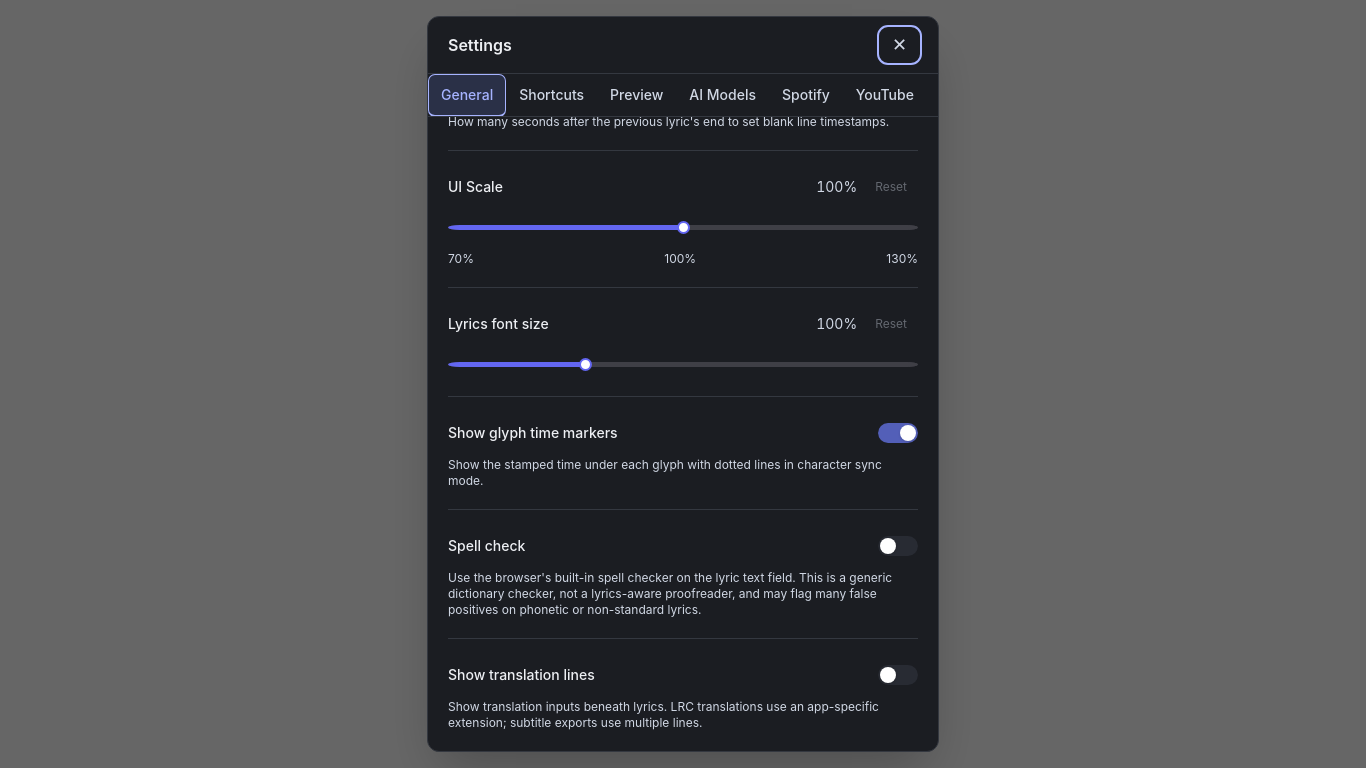
Scenario: keeps settings open when cancelling the nested translation warning
The image size is (1366, 768).
(page scrolled)
Click the switch named "Show translation lines": point(898, 675) [878,659,918,691]
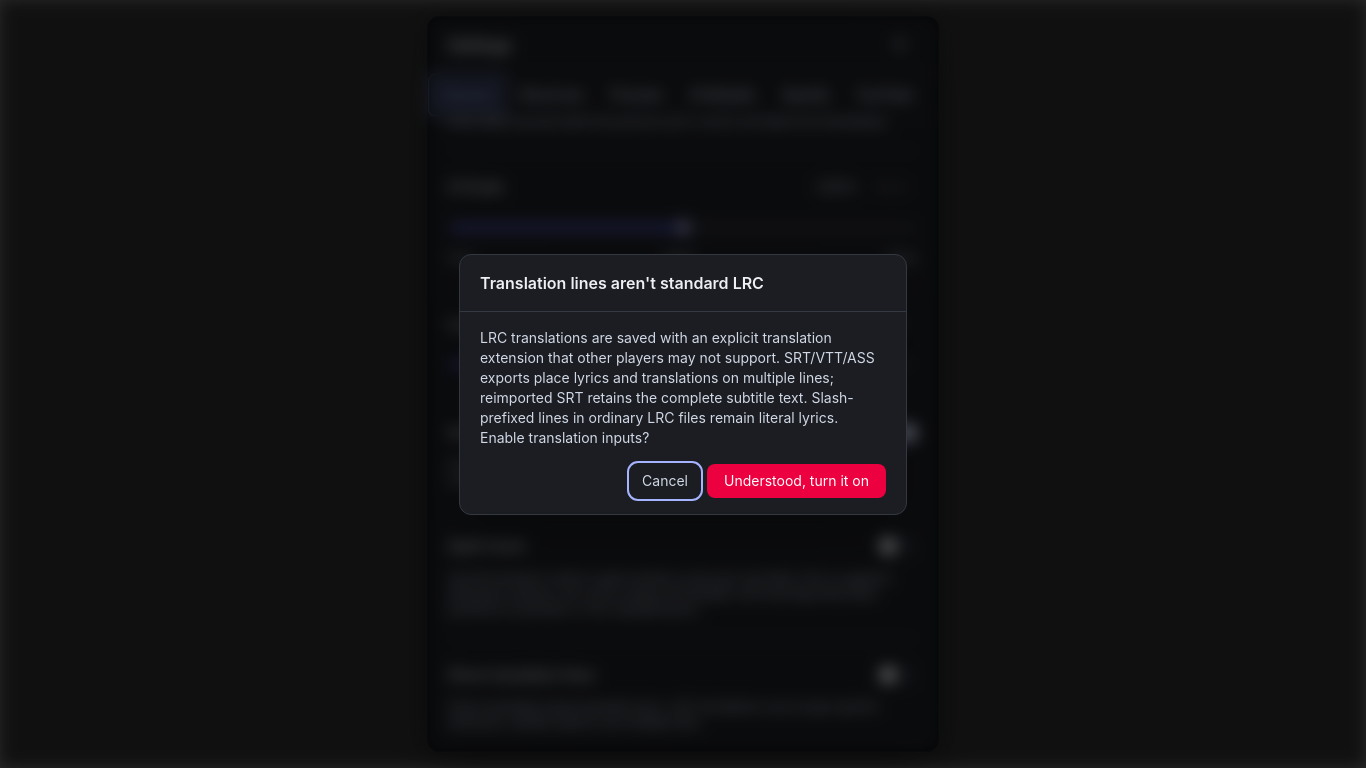
Press Escape
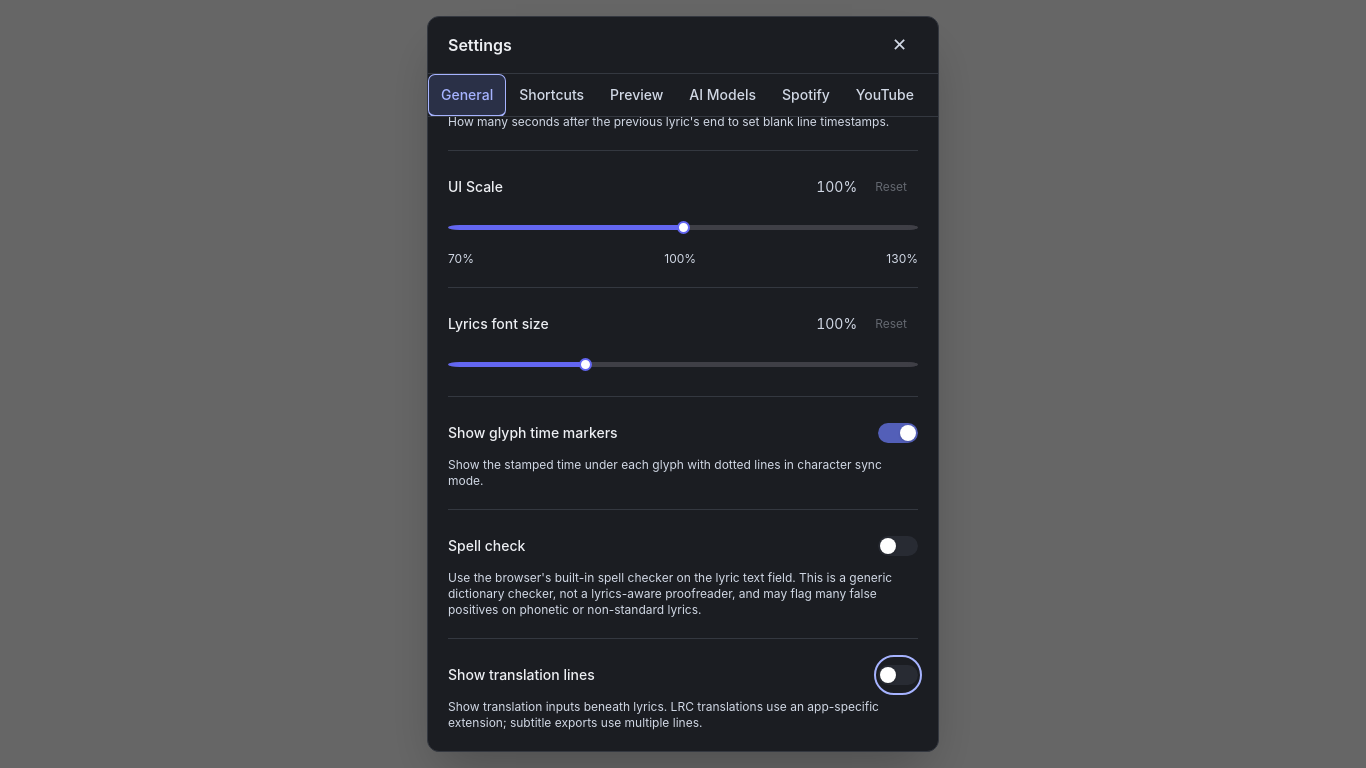
Expected: the text "Translation lines aren't standard LRC" is gone
